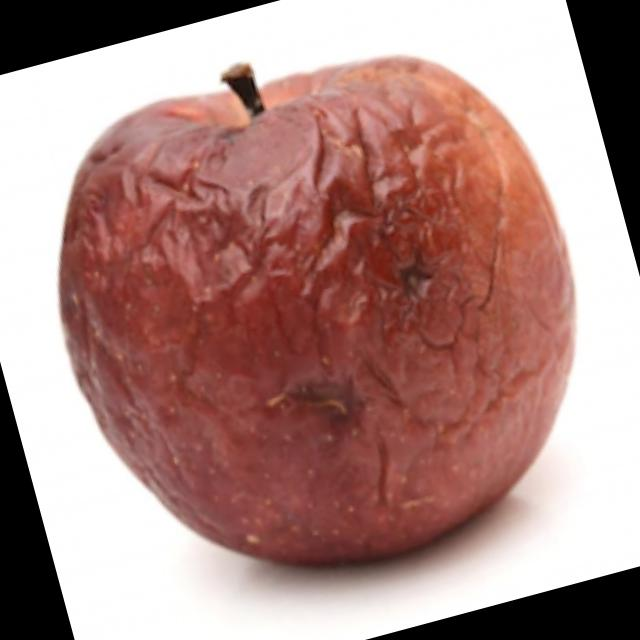rotten_apple: (7, 0, 635, 626)
